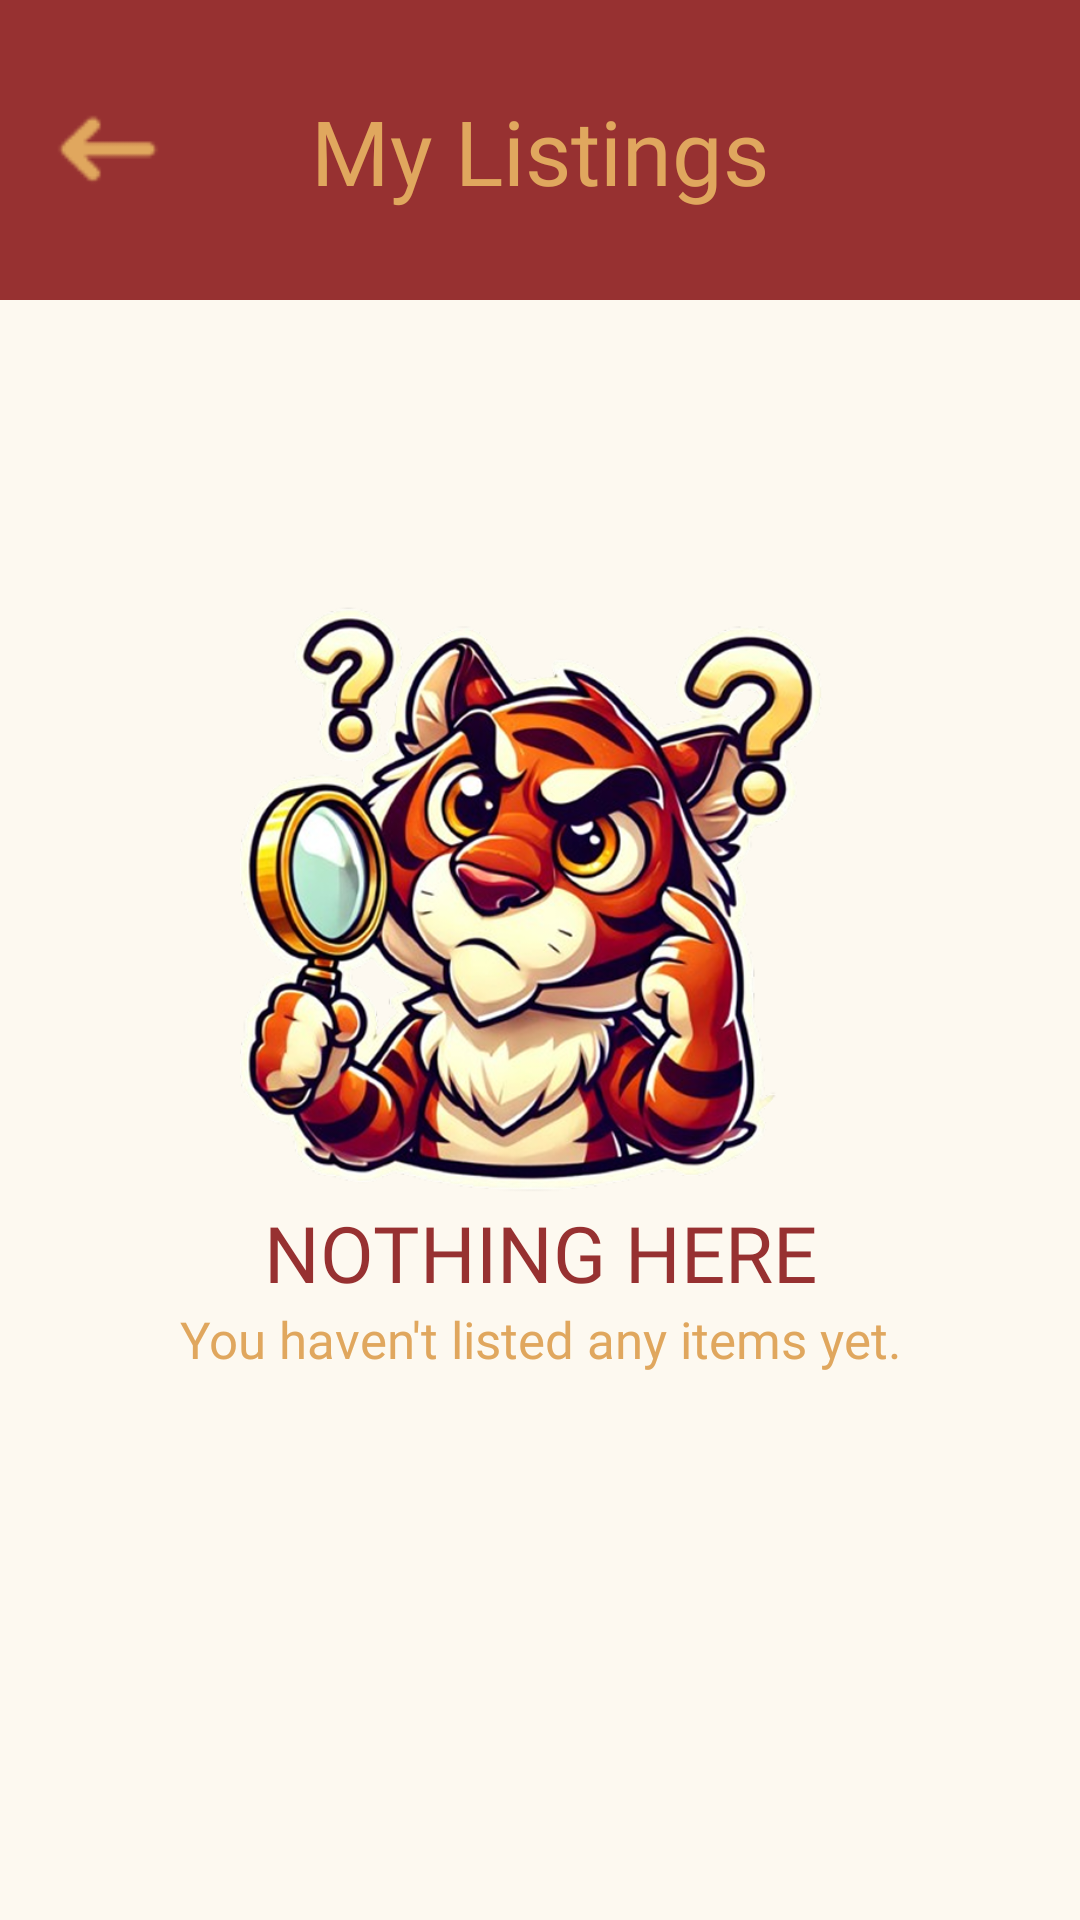

Screen size 1080×1920. Icon name, then its box in pixels as rect(x1, y1, x2, y2):
Back button: rect(60, 117, 156, 181)
